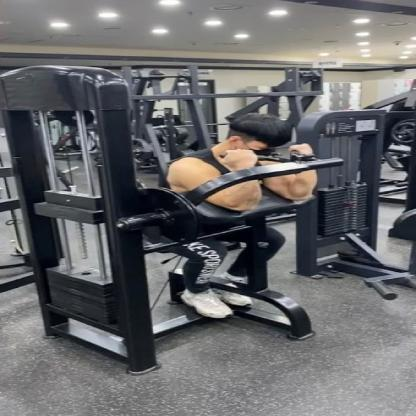arm curl machine: (10, 149, 344, 377)
